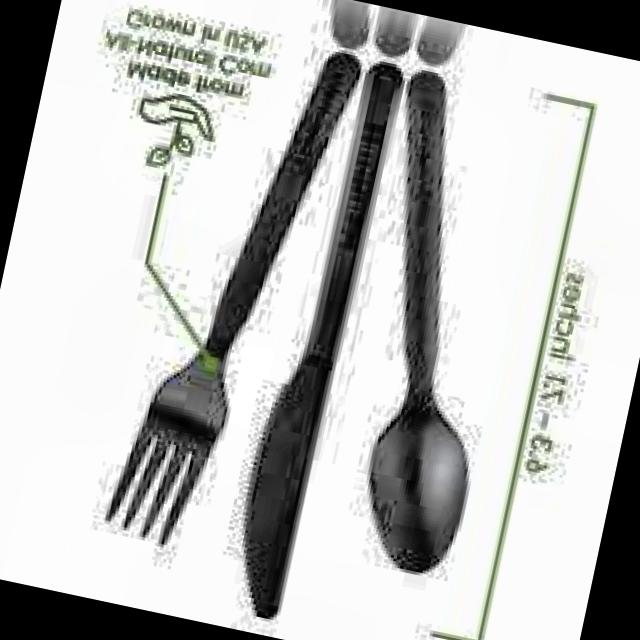plastic utensil: (108, 56, 357, 543), (244, 66, 402, 616), (368, 75, 467, 573)
